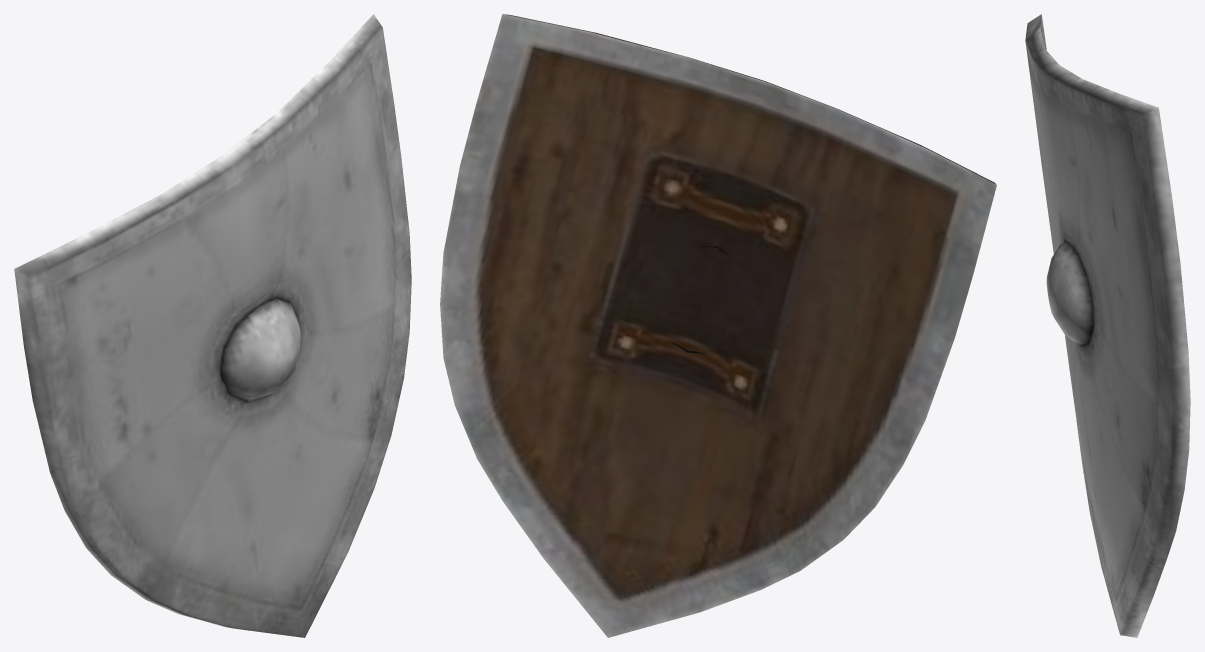
File: shield-female-bronzeshields.glb
3 renders of one model, left to right at view 1: azimuth 30°, elevation 25°; view 2: azimuth 150°, elevation 25°; view 3: azimuth 270°, elevation 25°, orthographic. The views are drawn at different scales.
Size of the model in its own units: 0.6776 by 0.8231 by 0.2149.
Materials: 1 (1 with a texture image).
